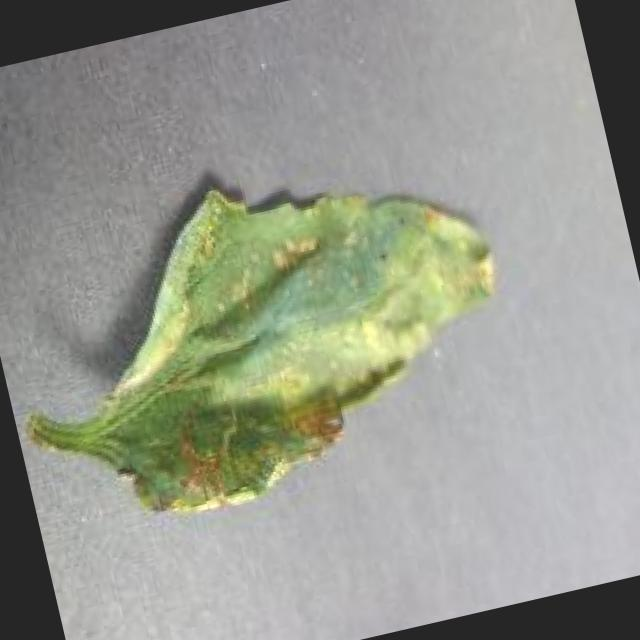bacterial spot: (32, 188, 497, 519)
